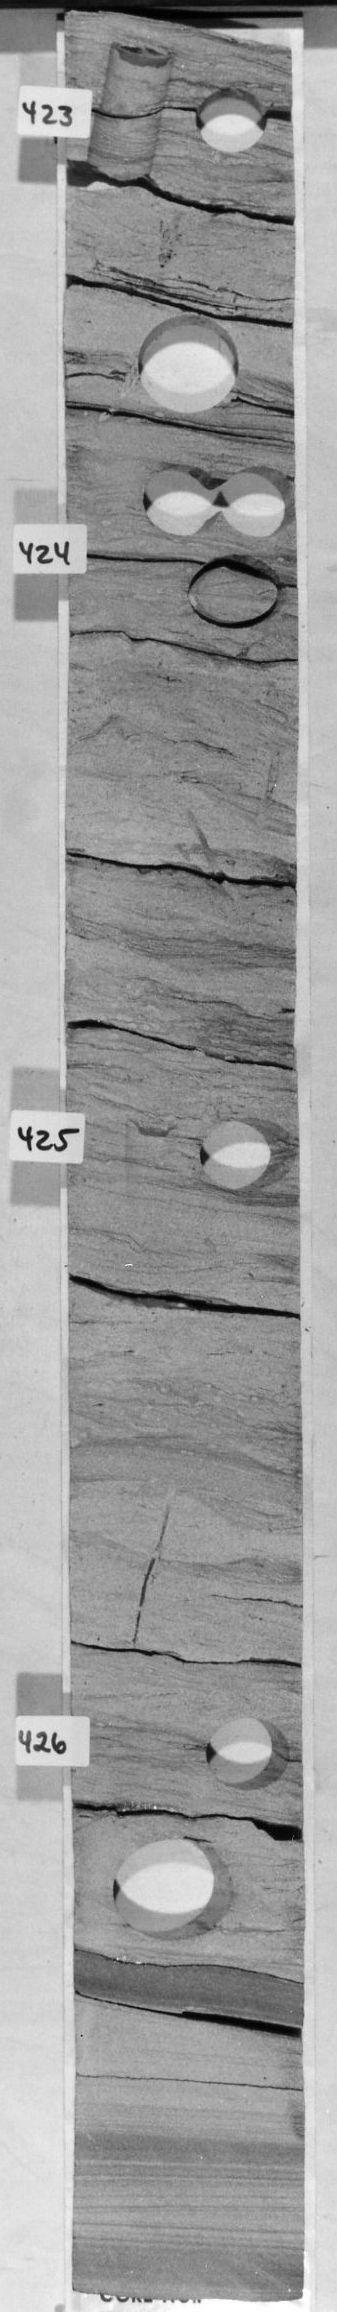hplug: (196, 1115, 297, 1202), (182, 551, 285, 633), (199, 1710, 294, 1796), (135, 456, 219, 543), (221, 456, 294, 543), (188, 83, 274, 156)
scal: (106, 1831, 241, 1943), (132, 310, 249, 417)
vplug: (82, 38, 174, 193), (118, 1107, 184, 1211)
